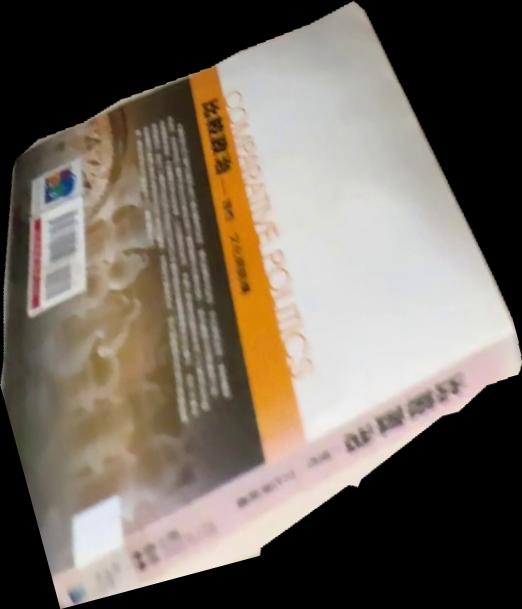flat: (1, 1, 522, 609)
